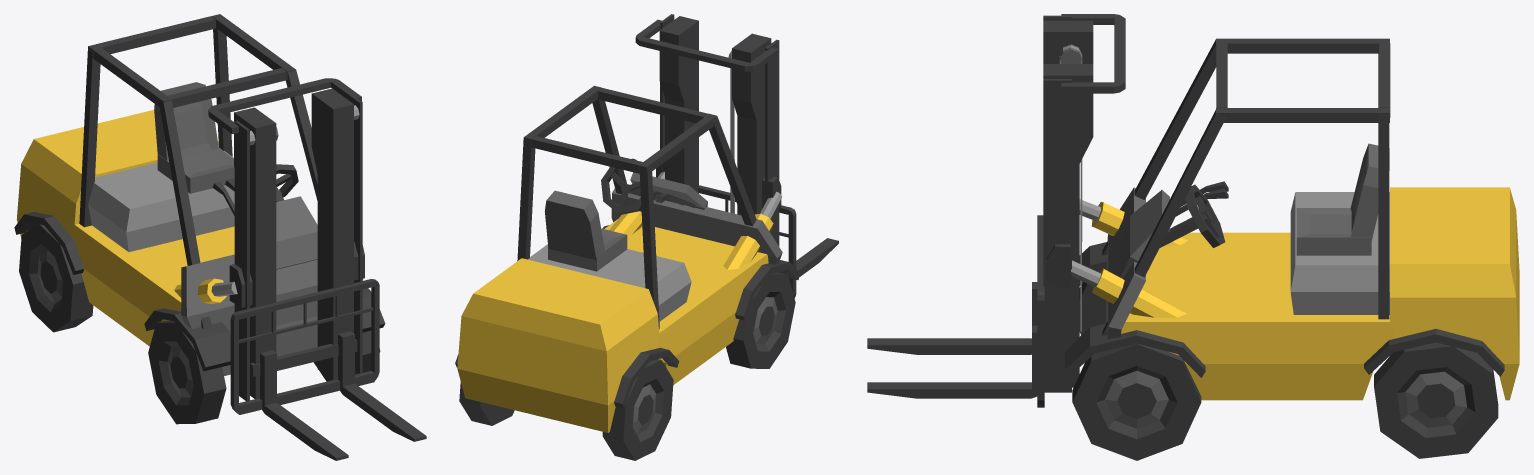
File: Forklift.gltf
The picture shows the model from 3 angles, left to right: view 1: azimuth 30°, elevation 25°; view 2: azimuth 150°, elevation 25°; view 3: azimuth 270°, elevation 25°; orthographic projection. The views are drawn at different scales.
Visible parts, largest first — view 1: Cylinder.002; view 2: Cylinder.002; view 3: Cylinder.002.
Part boxes in pixels (x1=…): Cylinder.002: x1=14, y1=14, x2=426, y2=460; Cylinder.002: x1=455, y1=14, x2=838, y2=460; Cylinder.002: x1=867, y1=14, x2=1519, y2=460.
Size of the model in its own units: 0.8461 by 1.42 by 2.31.
